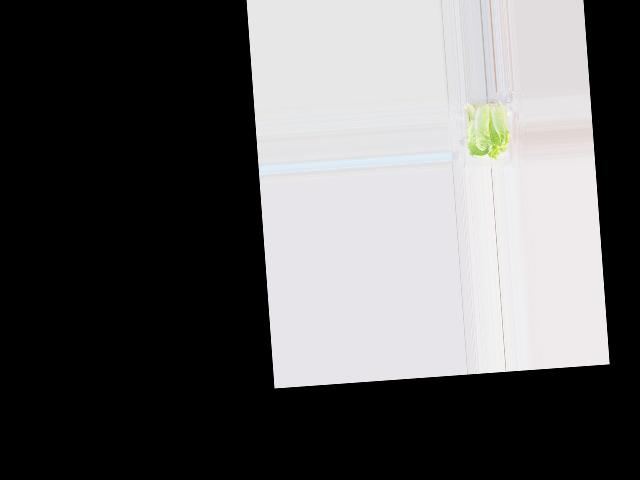lettuce: (464, 102, 511, 162)
